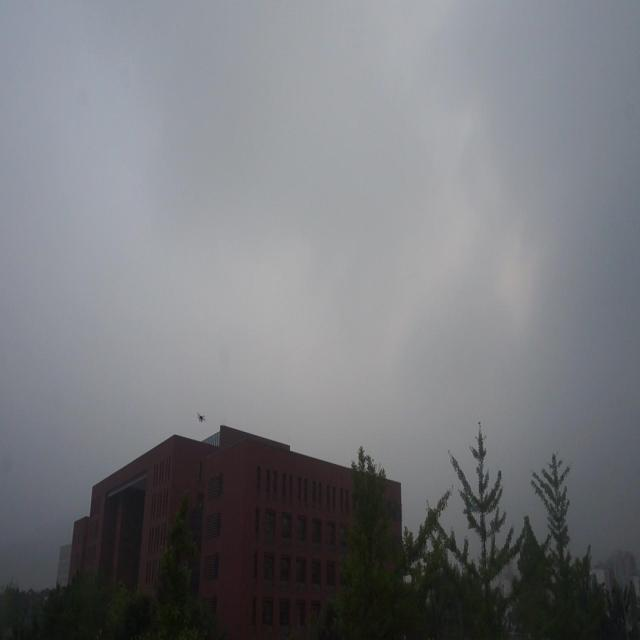drone: (196, 409, 206, 426)
